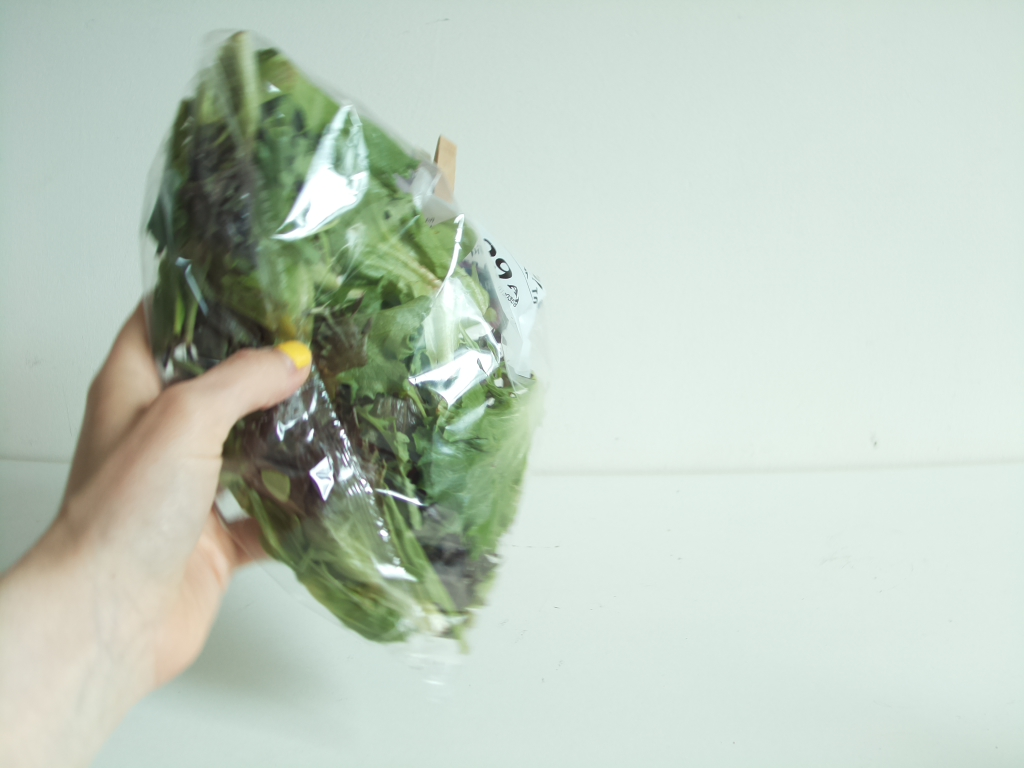salad: (140, 26, 540, 645)
